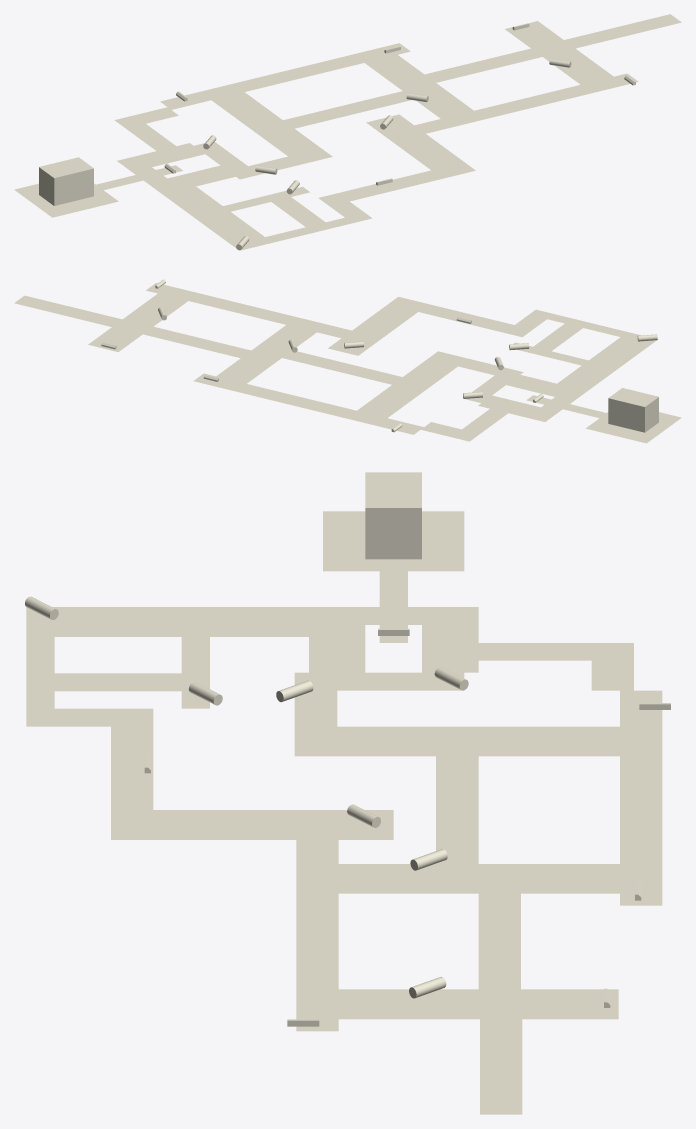
Rendered from whitebox_GY.fbx.
3 renders of one model, top to bottom at view 1: azimuth 30°, elevation 25°; view 2: azimuth 150°, elevation 25°; view 3: azimuth 270°, elevation 25°, orthographic. The views are drawn at different scales.
Parts seen in each view (by area): view 1: Path7, Path23, Path17, Path12, Path15, Maus, Path11, Path10, Path13, Ground, Path16, Path14 (+16 smaller); view 2: Path7, Path12, Path17, Path23, Path15, Maus, Path11, Path10, Path13, Ground, Path14, Path16 (+16 smaller); view 3: Path7, Path15, Path12, Path17, Path23, Ground, Maus, Path13, Path11, Path10, Path14, Path16 (+16 smaller).
Part boxes in pixels (left/top/right/bottom): Path7: left=211, top=92, right=320, bottom=156; Path23: left=366, top=114, right=475, bottom=178; Path17: left=163, top=186, right=272, bottom=250; Path12: left=365, top=55, right=473, bottom=118; Path15: left=505, top=21, right=614, bottom=85; Maus: left=39, top=157, right=93, bottom=205; Path11: left=283, top=91, right=411, bottom=128; Path10: left=160, top=72, right=290, bottom=109; Path13: left=280, top=43, right=410, bottom=80; Ground: left=14, top=183, right=118, bottom=217; Path16: left=564, top=14, right=681, bottom=48; Path14: left=425, top=48, right=541, bottom=82; Path7: left=357, top=359, right=457, bottom=417; Path12: left=216, top=325, right=316, bottom=383; Path17: left=557, top=332, right=656, bottom=390; Path23: left=328, top=296, right=428, bottom=355; Path15: left=88, top=293, right=188, bottom=351; Maus: left=608, top=388, right=658, bottom=432; Path11: left=282, top=351, right=402, bottom=384; Path10: left=304, top=400, right=423, bottom=434; Path13: left=193, top=373, right=313, bottom=407; Ground: left=586, top=412, right=681, bottom=443; Path14: left=143, top=326, right=250, bottom=358; Path16: left=14, top=295, right=121, bottom=326; Path7: left=337, top=726, right=619, bottom=756; Path15: left=335, top=989, right=618, bottom=1019; Path12: left=337, top=864, right=619, bottom=893; Path17: left=26, top=607, right=308, bottom=636; Path23: left=111, top=810, right=393, bottom=839; Ground: left=323, top=511, right=464, bottom=571; Maus: left=365, top=472, right=421, bottom=559; Path13: left=620, top=798, right=662, bottom=905; Path11: left=436, top=756, right=478, bottom=863; Path10: left=620, top=690, right=662, bottom=798; Path14: left=478, top=893, right=520, bottom=989; Path16: left=480, top=1019, right=522, bottom=1114.
Size of the model in its own units: 10100 by 400 by 4572.
